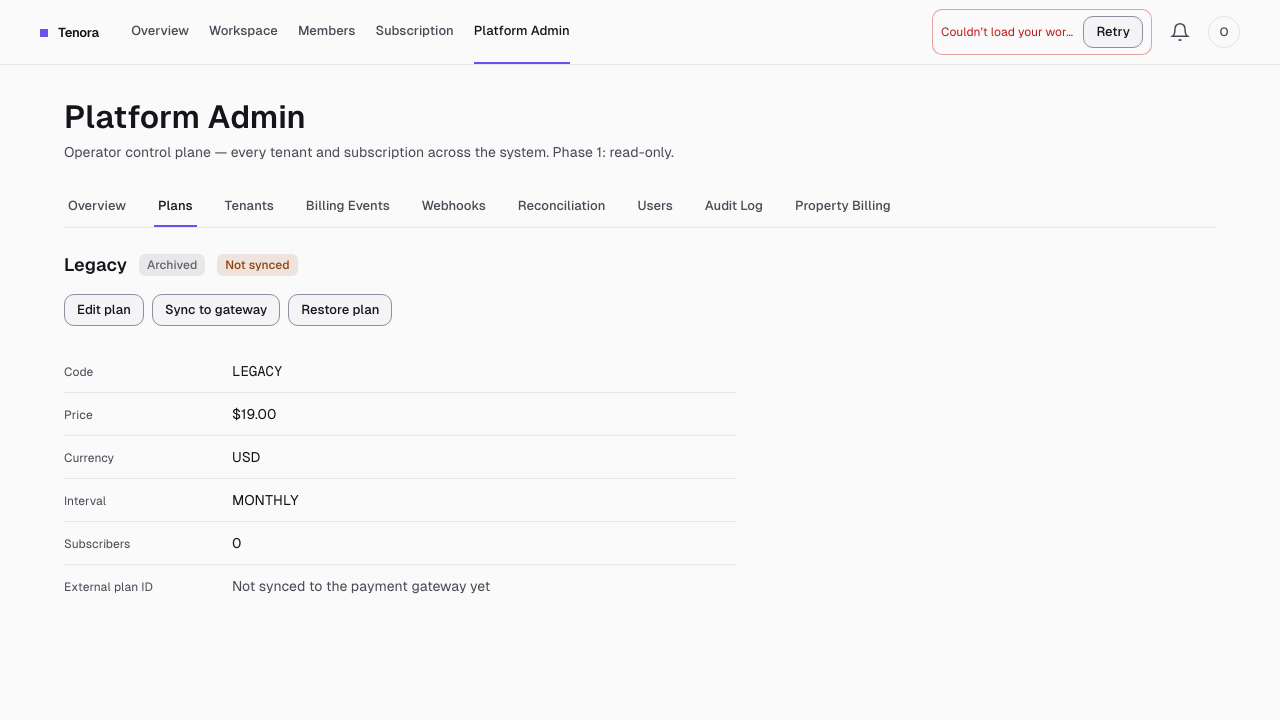
PlanDetailPage — operator actions (Phase 3) › leaves every field editable for an unsynced plan
Expected: the heading "Legacy" is shown, left=64, top=252, right=127, bottom=278
Click the button "Edit plan" at (104, 310), box left=64, top=294, right=144, bottom=326
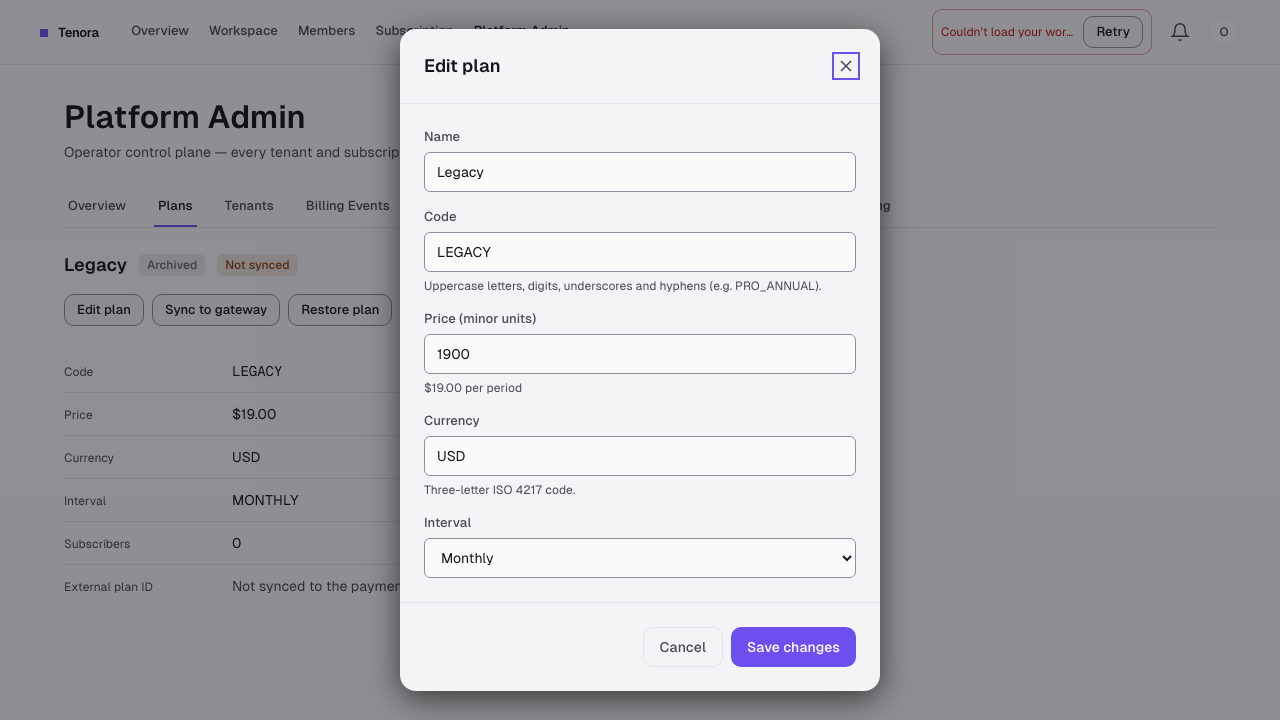
Expected: the dialog is shown, left=400, top=29, right=880, bottom=691
Expected: the field labelled "Code" is enabled, left=424, top=232, right=856, bottom=272
Expected: the field labelled "Price (minor units)" is enabled, left=424, top=334, right=856, bottom=374
